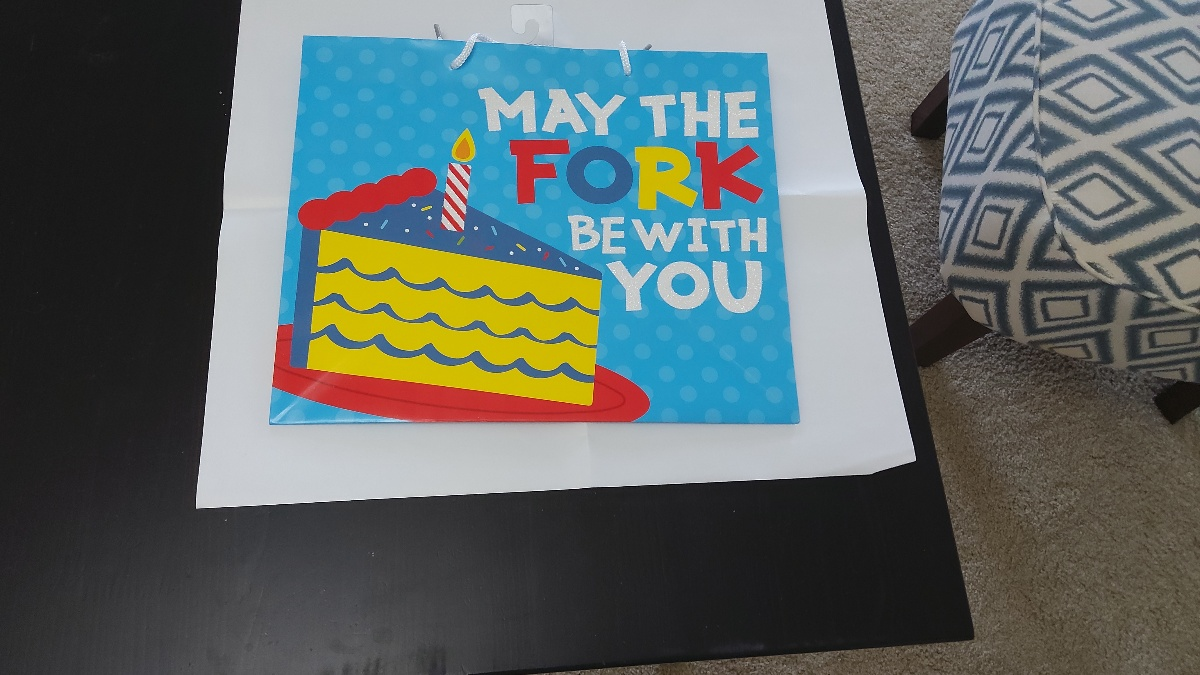paper_bag: (306, 41, 773, 430)
